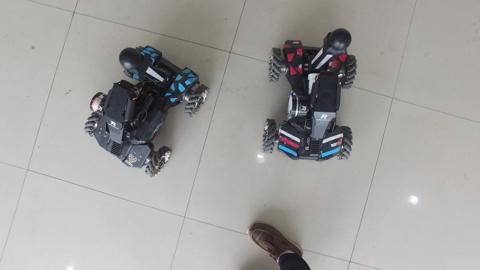chariot: (77, 43, 215, 183), (256, 21, 370, 171)
